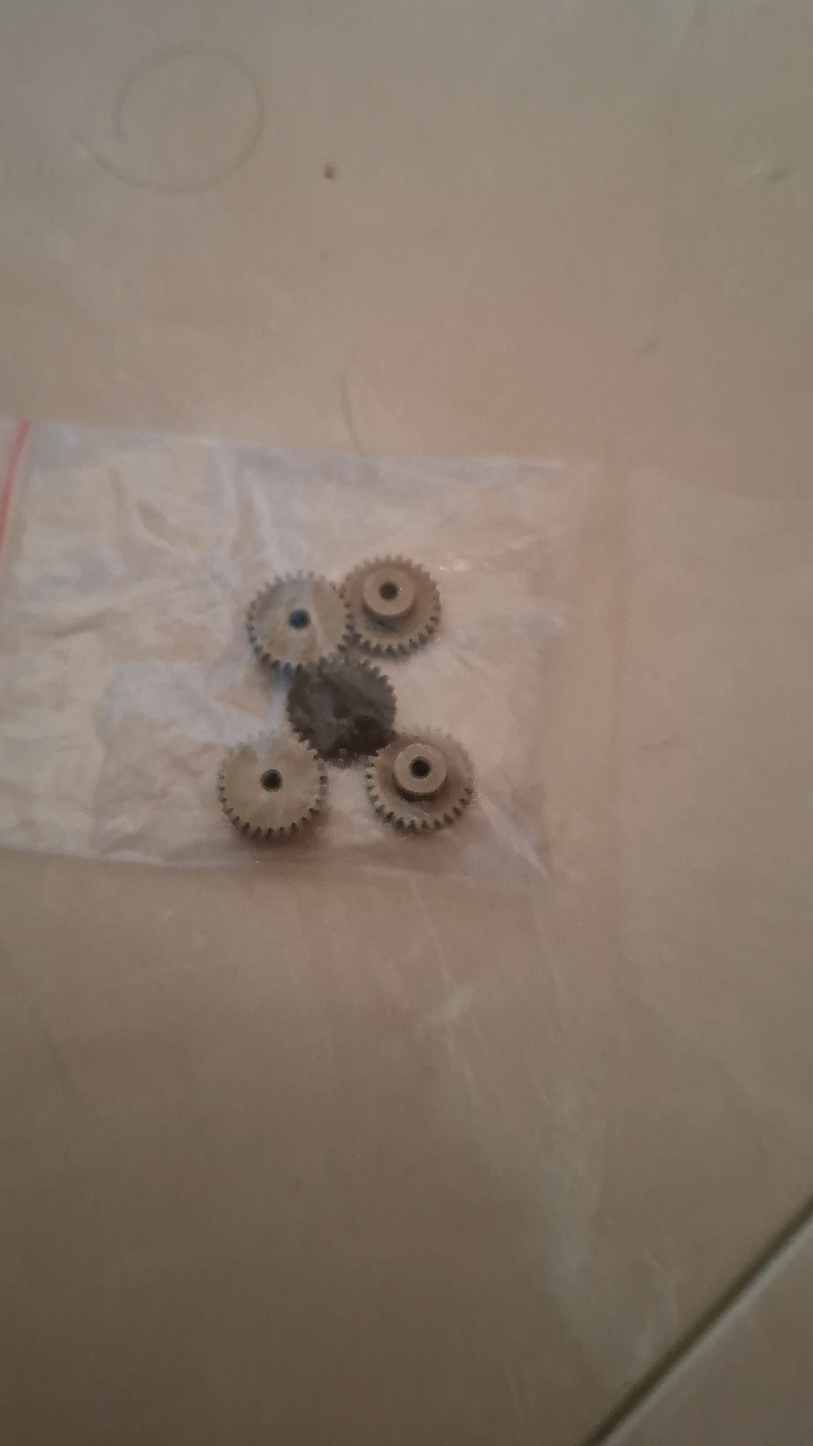spur gear: (287, 656, 395, 763), (218, 735, 326, 838), (366, 730, 473, 831), (341, 557, 440, 657), (248, 574, 348, 672)
